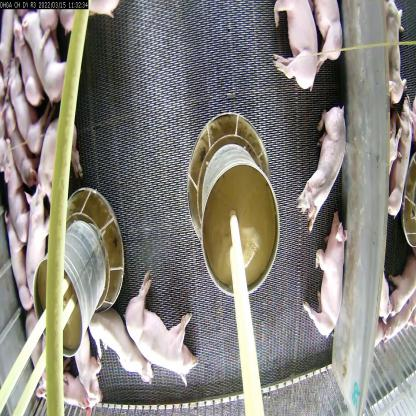Pig: (115, 264, 203, 398), (295, 101, 350, 236), (83, 298, 158, 390), (304, 210, 350, 341), (34, 106, 88, 210), (19, 8, 76, 106), (4, 52, 59, 148), (270, 0, 321, 101), (21, 178, 61, 298), (19, 310, 65, 410), (0, 137, 40, 245), (386, 100, 416, 233), (2, 207, 38, 317), (68, 320, 108, 416), (377, 0, 408, 115), (10, 21, 44, 118), (3, 104, 42, 188), (310, 0, 352, 67), (44, 366, 91, 416), (387, 252, 416, 327), (383, 292, 415, 349), (377, 269, 393, 328)
